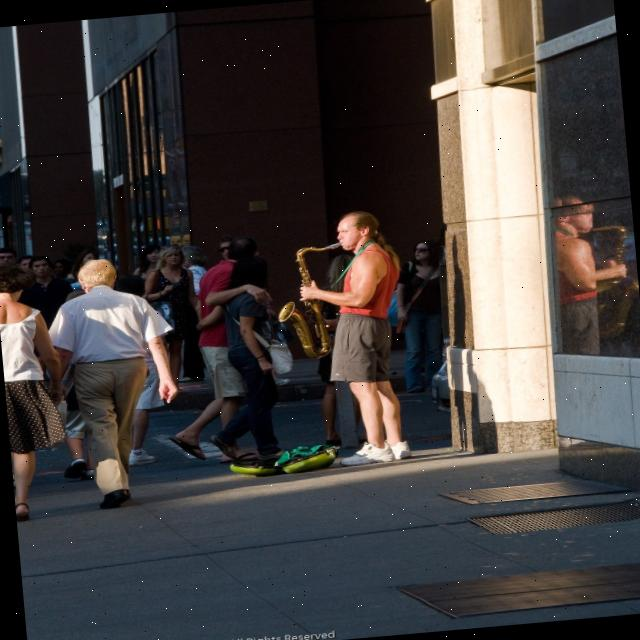saxophone: (268, 240, 359, 363), (586, 220, 640, 341)
